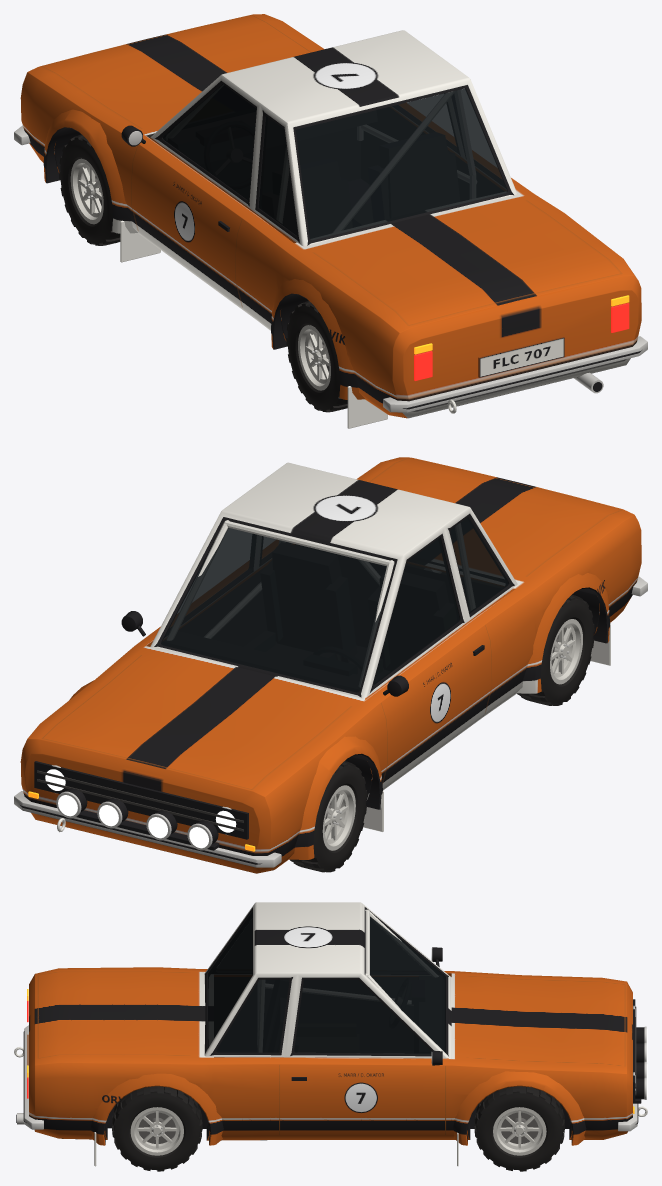
File: CAR-004_Export.fbx
The picture shows the model from 3 angles, top to bottom: view 1: azimuth 30°, elevation 25°; view 2: azimuth 150°, elevation 25°; view 3: azimuth 270°, elevation 25°; orthographic projection. The views are drawn at different scales.
Parts seen in each view (by area): view 1: CAR-004_Body, CAR-004_Glass, CAR-004_Bumper_Rear, CAR-004_Wheel_FL_Tire, CAR-004_Wheel_RL_Tire, CAR-004_Trim, CAR-004_MudFlaps, CAR-004_Wheel_FL_Rim, CAR-004_Wheel_RL_Rim, CAR-004_Lights; view 2: CAR-004_Body, CAR-004_Glass, CAR-004_Trim, CAR-004_Lights, CAR-004_Wheel_FL_Tire, CAR-004_Wheel_RL_Tire, CAR-004_Bumper_Front, CAR-004_Interior, CAR-004_Wheel_FL_Rim, CAR-004_Wheel_RL_Rim, CAR-004_MudFlaps, CAR-004_Mirrors; view 3: CAR-004_Body, CAR-004_Glass, CAR-004_Wheel_RR_Tire, CAR-004_Wheel_FR_Tire, CAR-004_Wheel_RR_Rim, CAR-004_Wheel_FR_Rim, CAR-004_Lights, CAR-004_Trim, CAR-004_Bumper_Rear, CAR-004_Interior.
Boxes of the visible parts, left/top/right/bottom form: CAR-004_Body: left=20, top=14, right=641, bottom=418; CAR-004_Glass: left=163, top=84, right=507, bottom=240; CAR-004_Bumper_Rear: left=383, top=336, right=647, bottom=412; CAR-004_Wheel_FL_Tire: left=59, top=134, right=120, bottom=245; CAR-004_Wheel_RL_Tire: left=286, top=301, right=347, bottom=412; CAR-004_Trim: left=218, top=221, right=603, bottom=413; CAR-004_MudFlaps: left=120, top=220, right=387, bottom=428; CAR-004_Wheel_FL_Rim: left=70, top=158, right=103, bottom=224; CAR-004_Wheel_RL_Rim: left=298, top=325, right=330, bottom=390; CAR-004_Lights: left=414, top=295, right=629, bottom=380; CAR-004_Body: left=20, top=457, right=641, bottom=873; CAR-004_Glass: left=161, top=517, right=508, bottom=692; CAR-004_Trim: left=34, top=645, right=484, bottom=839; CAR-004_Lights: left=28, top=765, right=255, bottom=851; CAR-004_Wheel_FL_Tire: left=290, top=761, right=367, bottom=872; CAR-004_Wheel_RL_Tire: left=517, top=594, right=594, bottom=705; CAR-004_Bumper_Front: left=14, top=791, right=281, bottom=867; CAR-004_Interior: left=198, top=520, right=394, bottom=622; CAR-004_Wheel_FL_Rim: left=322, top=785, right=355, bottom=850; CAR-004_Wheel_RL_Rim: left=550, top=619, right=582, bottom=684; CAR-004_MudFlaps: left=363, top=623, right=610, bottom=831; CAR-004_Mirrors: left=121, top=611, right=408, bottom=696; CAR-004_Body: left=29, top=902, right=632, bottom=1145; CAR-004_Glass: left=207, top=911, right=445, bottom=1053; CAR-004_Wheel_RR_Tire: left=112, top=1086, right=202, bottom=1171; CAR-004_Wheel_FR_Tire: left=474, top=1086, right=564, bottom=1171; CAR-004_Wheel_RR_Rim: left=130, top=1107, right=183, bottom=1155; CAR-004_Wheel_FR_Rim: left=493, top=1107, right=546, bottom=1155; CAR-004_Lights: left=27, top=989, right=647, bottom=1113; CAR-004_Trim: left=14, top=999, right=647, bottom=1124; CAR-004_Bumper_Rear: left=23, top=1025, right=43, bottom=1129; CAR-004_Interior: left=279, top=909, right=430, bottom=1053.
Bounding box in the file's own units: 1.72 × 1.36 × 4.2.
17 materials, 2 textured.
